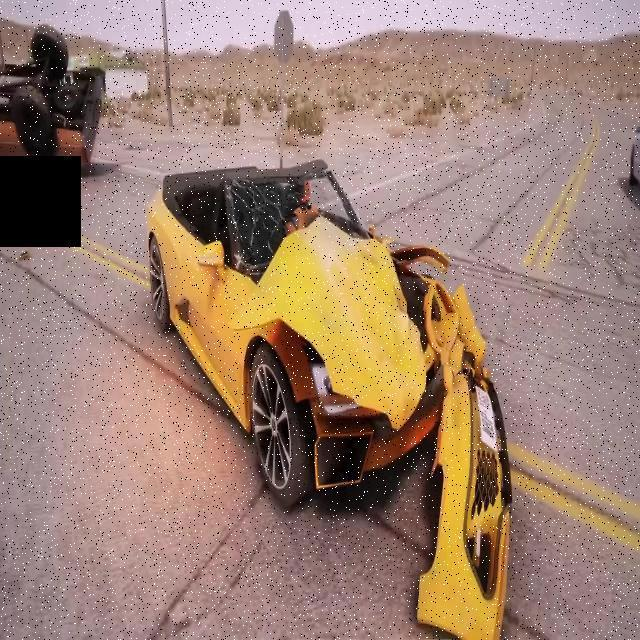single accident: (124, 74, 504, 554)
